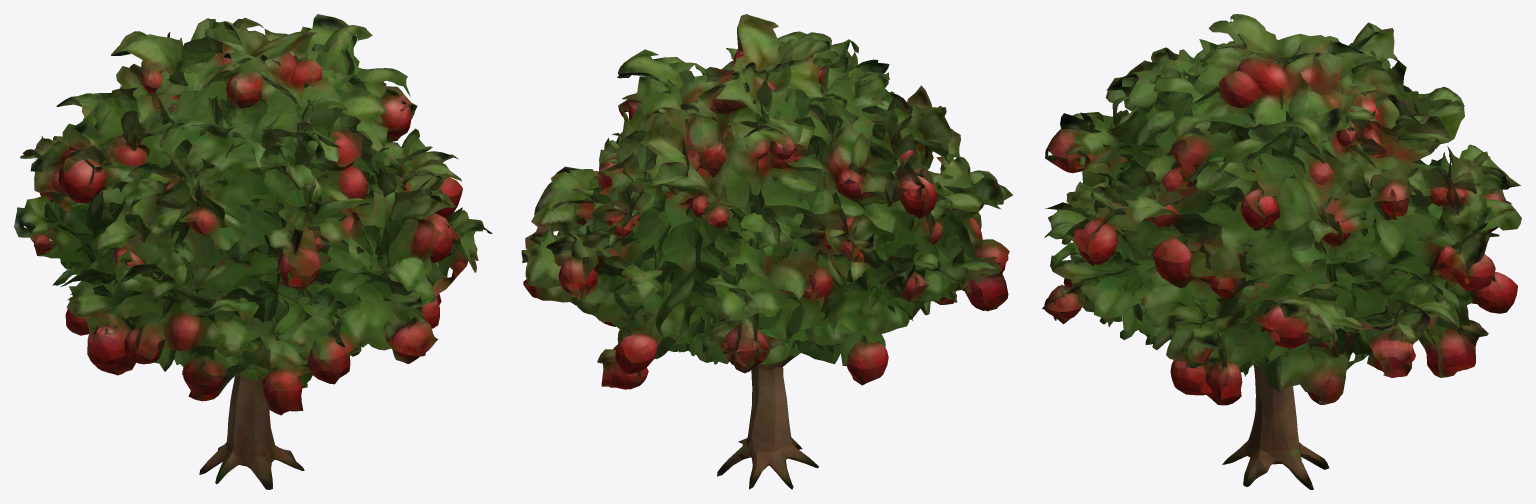
The model's file is pommier.glb.
3 views of the same model, side by side, from view 1: azimuth 30°, elevation 25°; view 2: azimuth 150°, elevation 25°; view 3: azimuth 270°, elevation 25° (orthographic). The views are drawn at different scales.
Visible parts, largest first — view 1: Object_4; view 2: Object_4; view 3: Object_4.
Boxes of the visible parts, bbox=[...] form: Object_4: bbox=[14, 14, 492, 489]; Object_4: bbox=[521, 14, 1012, 489]; Object_4: bbox=[1042, 14, 1521, 489].
Size of the model in its own units: 3.17 by 3.2 by 3.11.
1 material, 1 textured.
